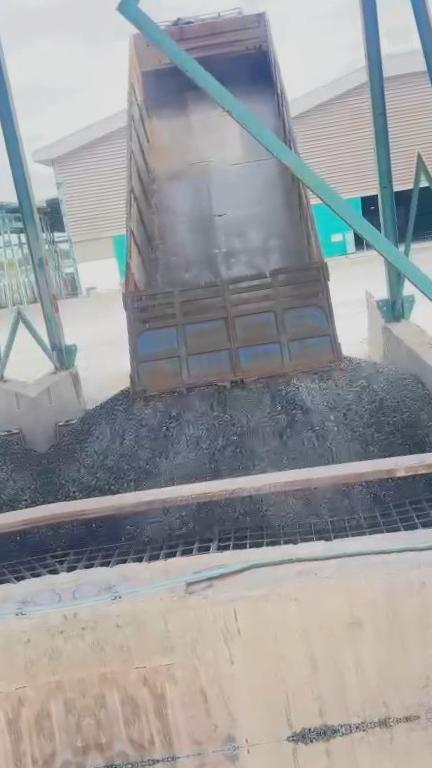gravel: (43, 358, 432, 501), (59, 472, 432, 546), (286, 717, 417, 739)
